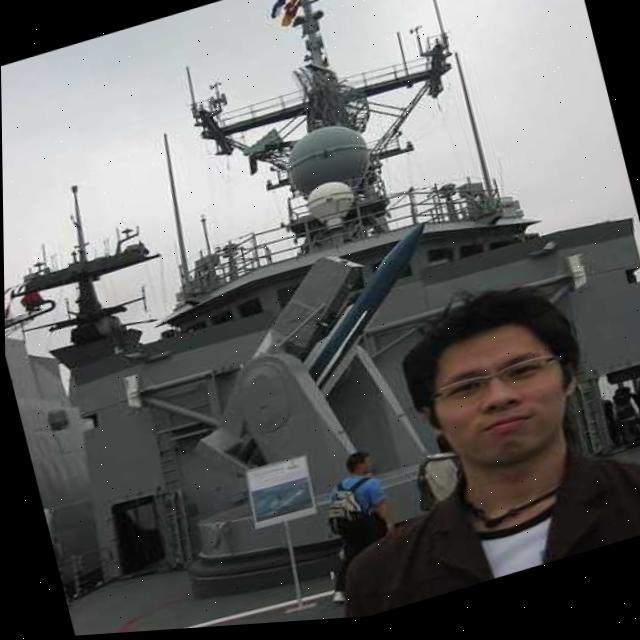missile: (158, 220, 480, 508)
